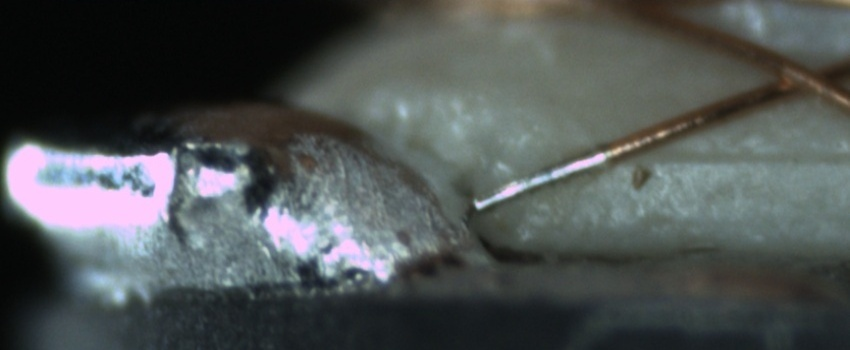CL: (757, 45, 846, 105)
DL: (625, 126, 850, 187)
TS: (468, 145, 607, 212)
